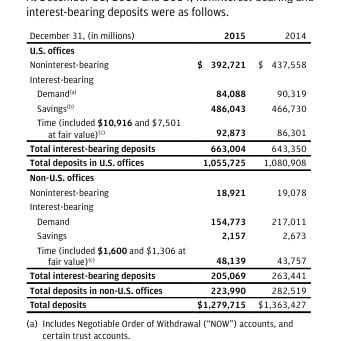table: (28, 29, 305, 309)
table column: (28, 29, 190, 309), (190, 29, 250, 309), (250, 29, 305, 309)
table column header: (28, 29, 305, 42)
table projected row header: (28, 169, 305, 184), (28, 198, 305, 213), (28, 42, 305, 56), (28, 71, 305, 85)
table row: (28, 242, 305, 268), (28, 115, 305, 140), (28, 56, 305, 71), (28, 85, 305, 100), (28, 100, 305, 115), (28, 140, 305, 155), (28, 169, 305, 184), (28, 198, 305, 213), (28, 227, 305, 242), (28, 282, 305, 297), (28, 42, 305, 56), (28, 71, 305, 85), (28, 155, 305, 169), (28, 184, 305, 198), (28, 213, 305, 227), (28, 268, 305, 282), (28, 29, 305, 42), (28, 297, 305, 309)
